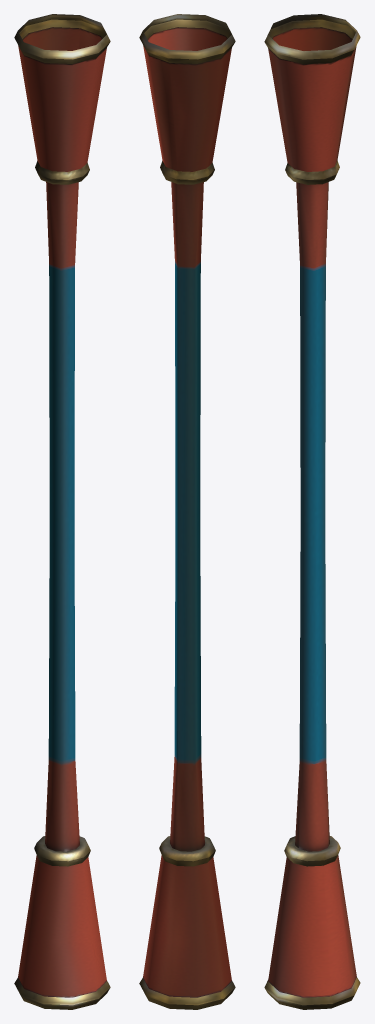
Rendered from pillar low.fbx.
The picture shows the model from 3 angles, left to right: view 1: azimuth 30°, elevation 25°; view 2: azimuth 210°, elevation 25°; view 3: azimuth 330°, elevation 25°; orthographic projection.
Parts seen in each view (by area): view 1: Pillar; view 2: Pillar; view 3: Pillar.
Boxes of the visible parts, x1,y1,x2,y2 form: Pillar: (14, 14, 110, 1009); Pillar: (139, 14, 235, 1009); Pillar: (264, 14, 360, 1009).
Bounding box in the file's own units: 96.9 × 1058 × 92.47.
